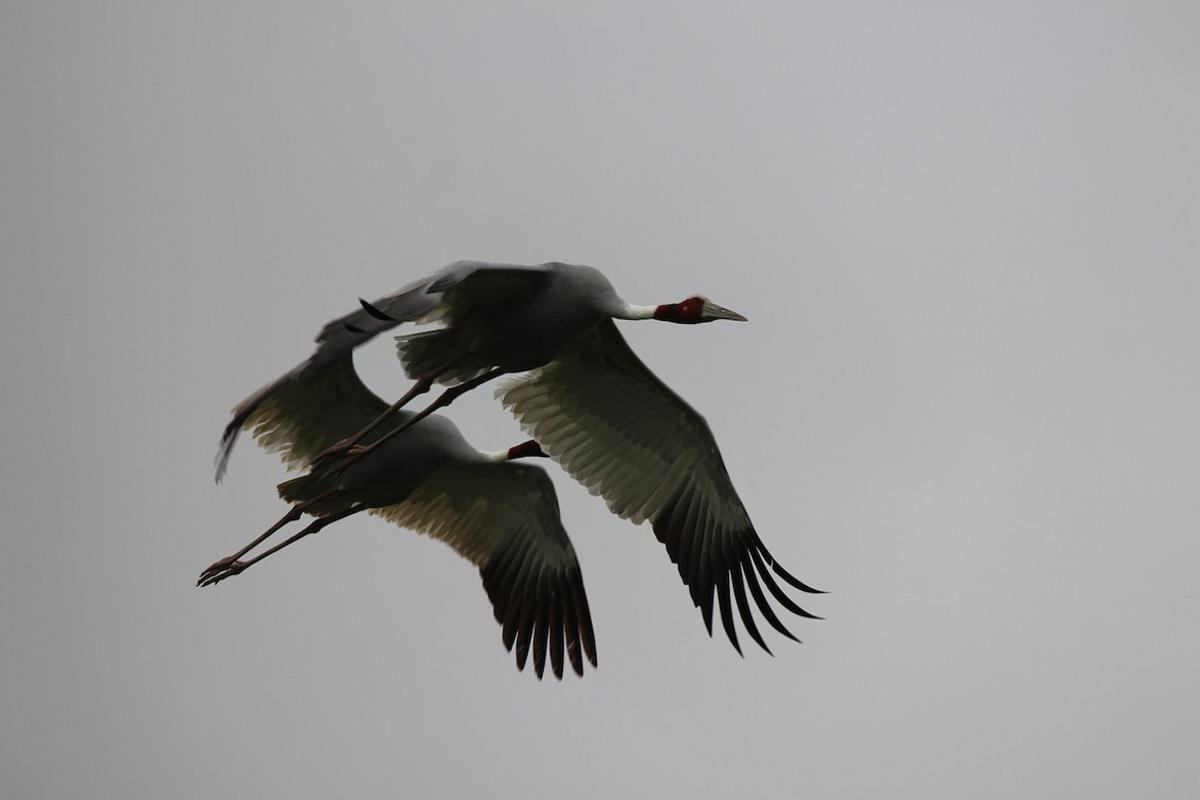crane: (366, 254, 894, 600), (156, 361, 615, 682)
